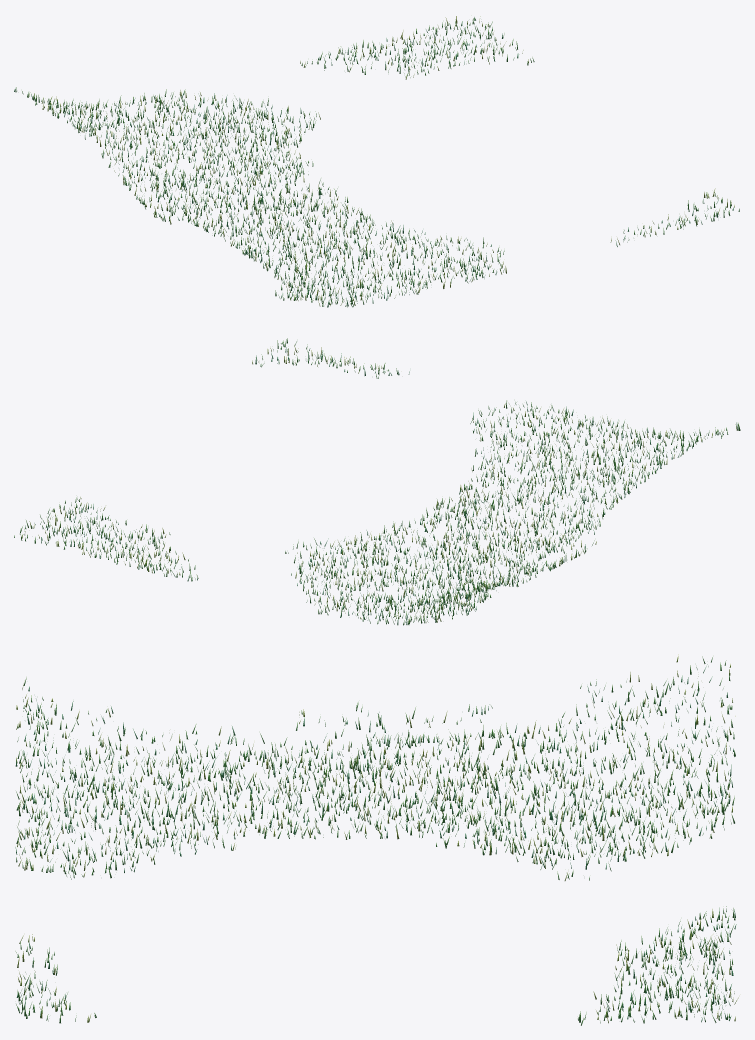
3 renders of one model, top to bottom at view 1: azimuth 30°, elevation 25°; view 2: azimuth 150°, elevation 25°; view 3: azimuth 270°, elevation 25°, orthographic. The views are drawn at different scales.
Parts seen in each view (by area): view 1: gc_30; view 2: gc_30; view 3: gc_30.
Boxes of the visible parts, <box> form: gc_30: <box>14,16,739,307</box>; gc_30: <box>14,338,740,625</box>; gc_30: <box>15,654,738,1025</box>.
Bounding box in the file's own units: 18.09 × 1.97 × 18.2.
Materials: 1 (1 with a texture image).
